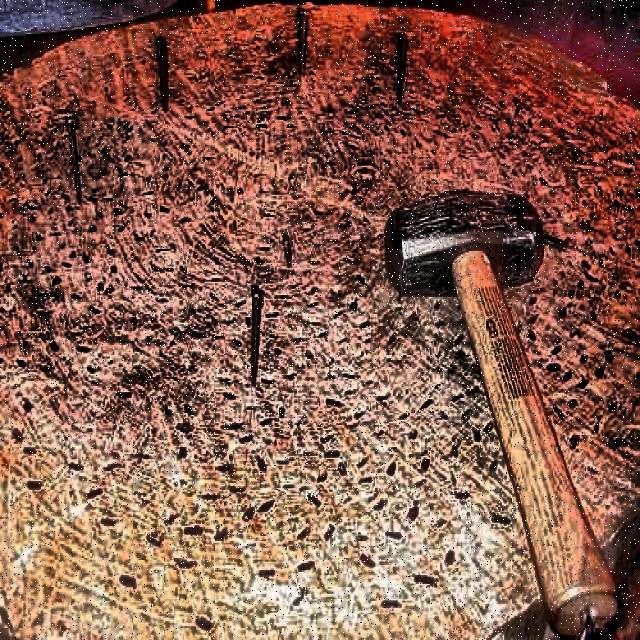hammer: (388, 184, 622, 630)
